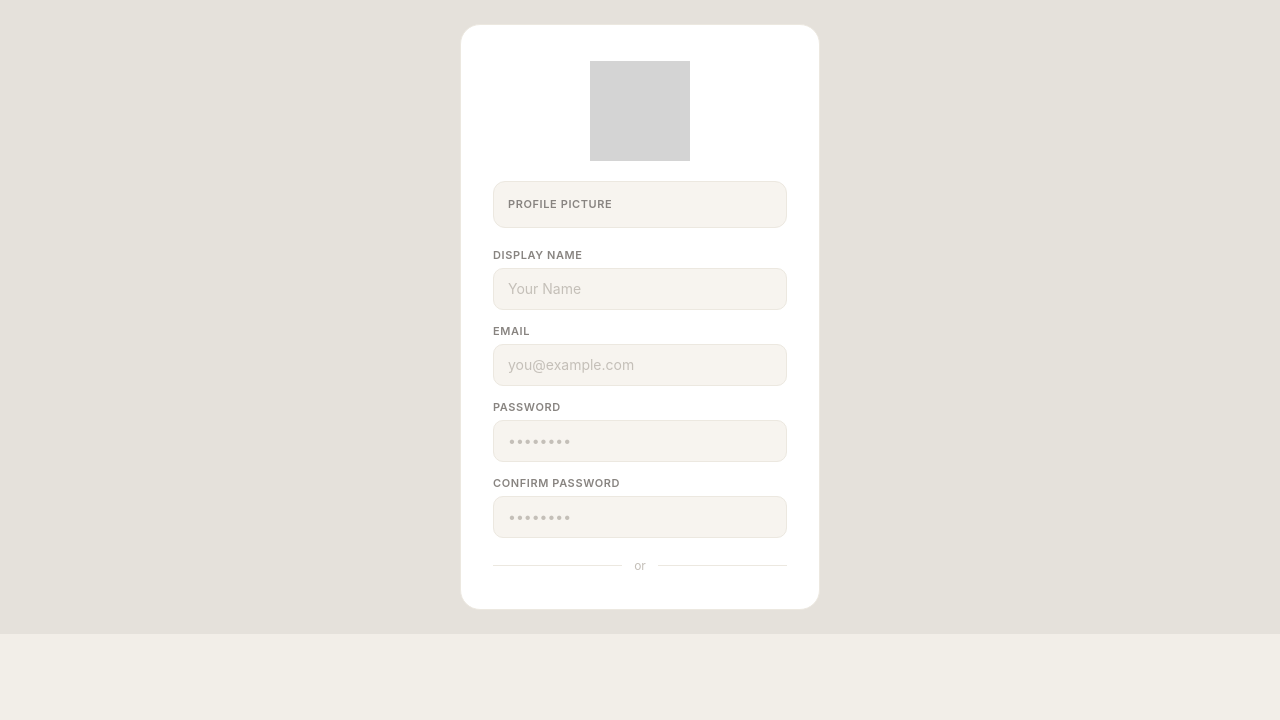
Test: RegisterPage › shows error when passwords do not match after blur
Type "secret123" into the password field labelled "Password".
click(640, 440); type("secret123")  # box [493,420,787,462]
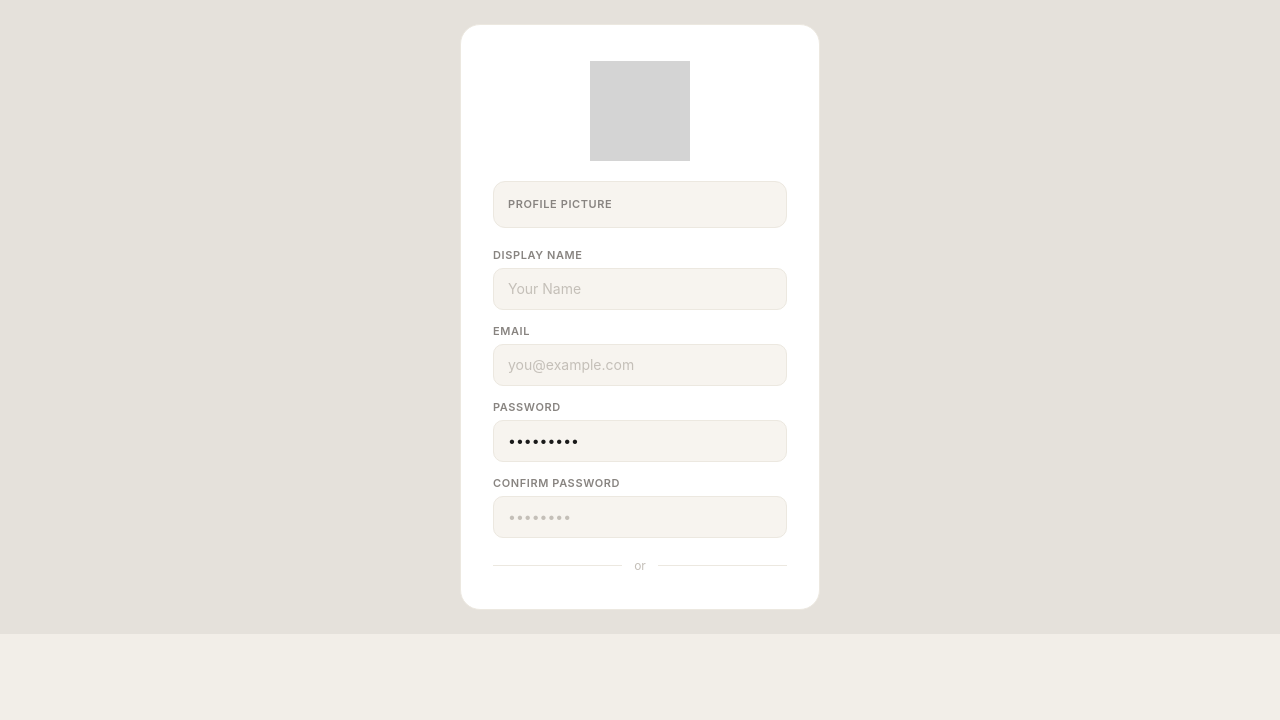
Type "different" into the password field labelled "Confirm password".
click(640, 516); type("different")  # box [493,496,787,538]
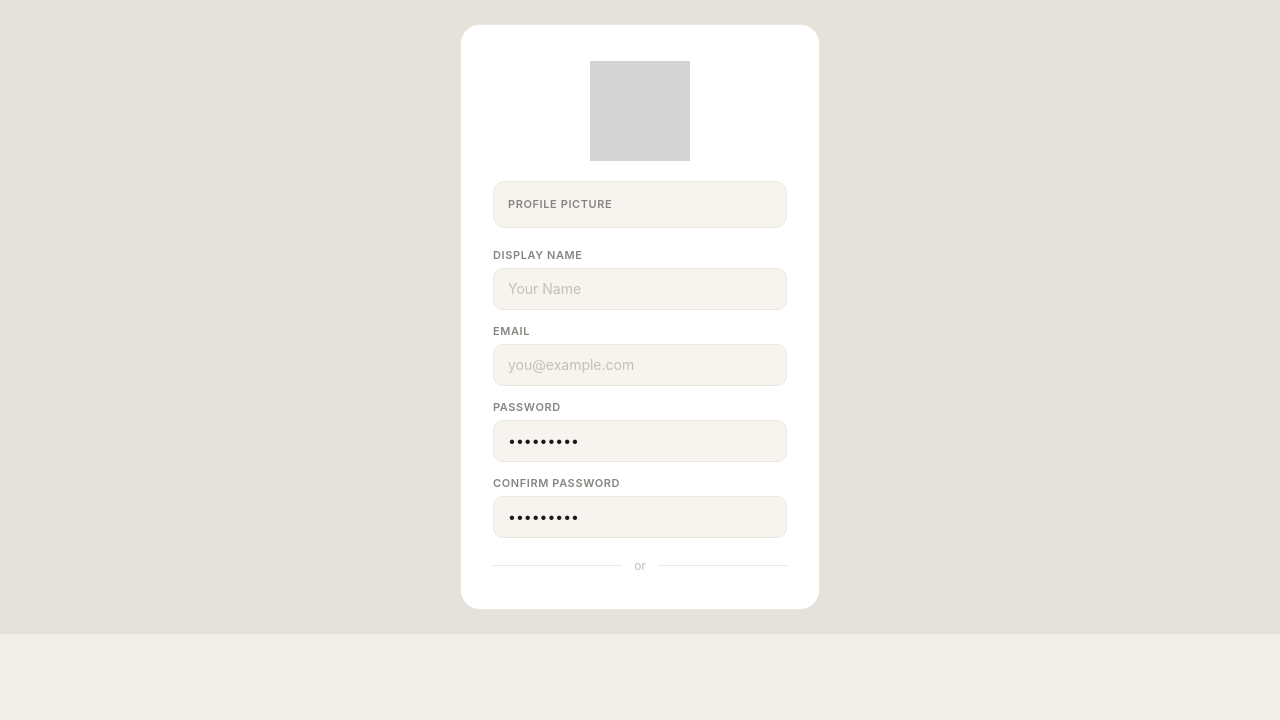
Leave the password field labelled "Confirm password", box [493,496,787,538]
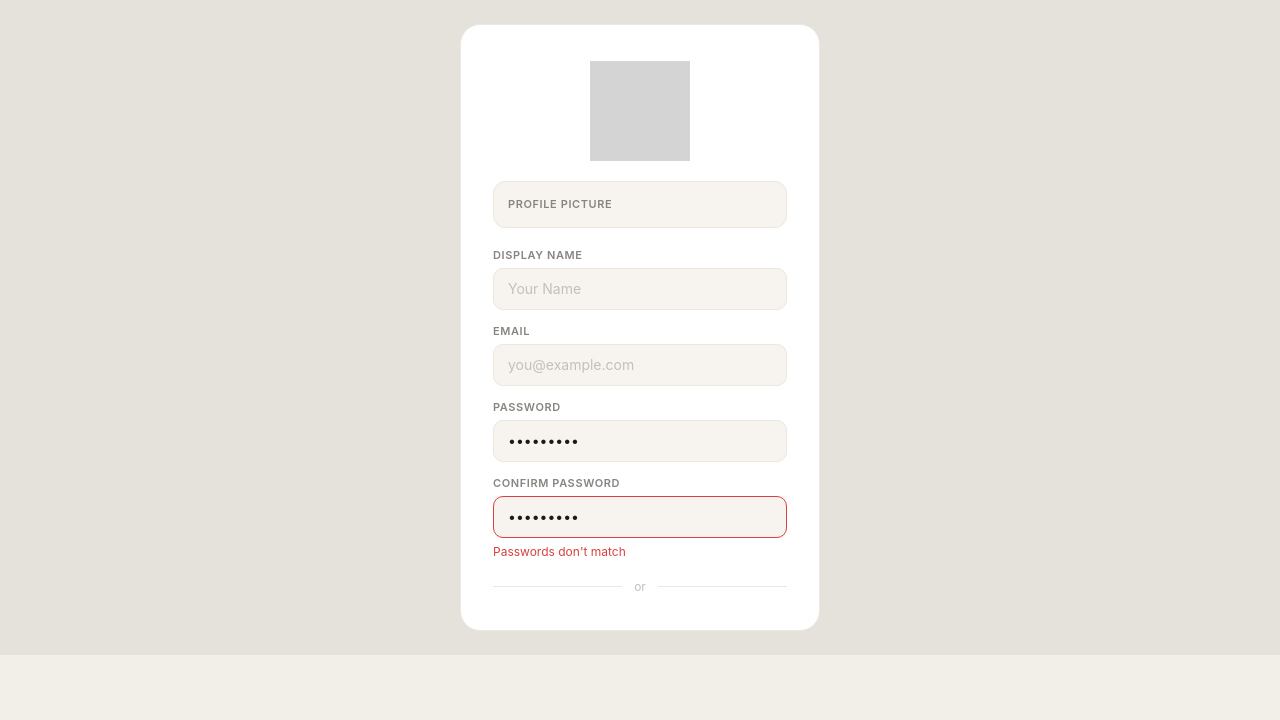
Expected: the text "Passwords don't match" is shown, [493,544,626,558]
